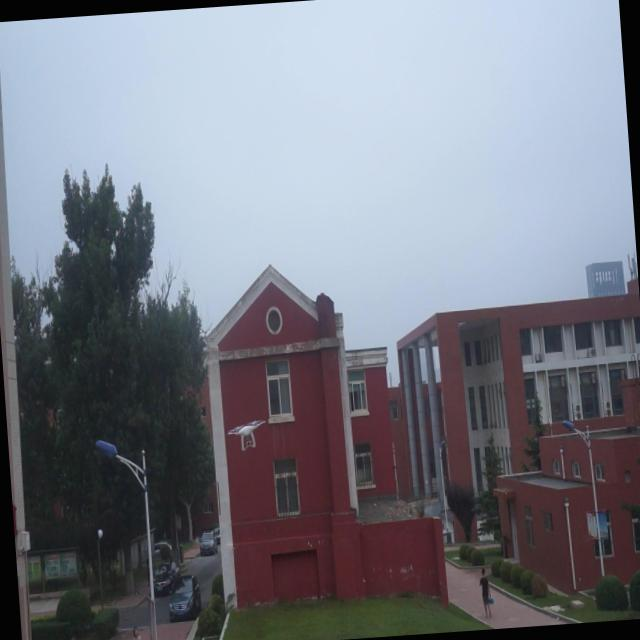drone: (225, 412, 269, 458)
